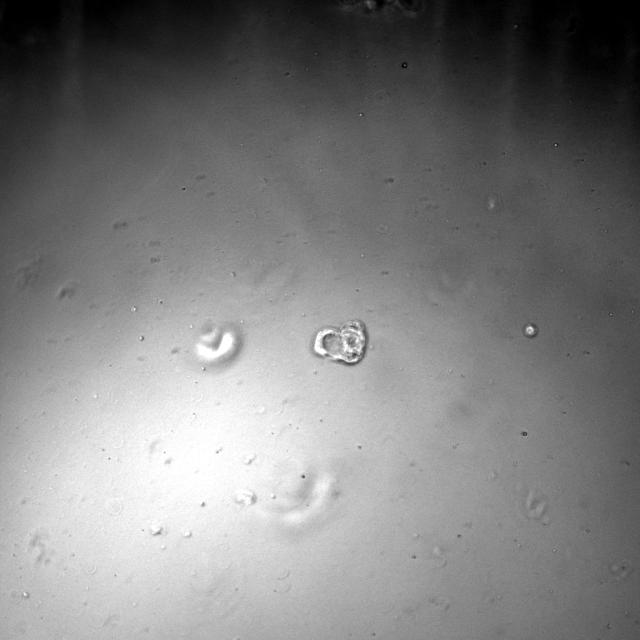organoid: (314, 320, 365, 363), (194, 323, 242, 368), (522, 323, 538, 338)
